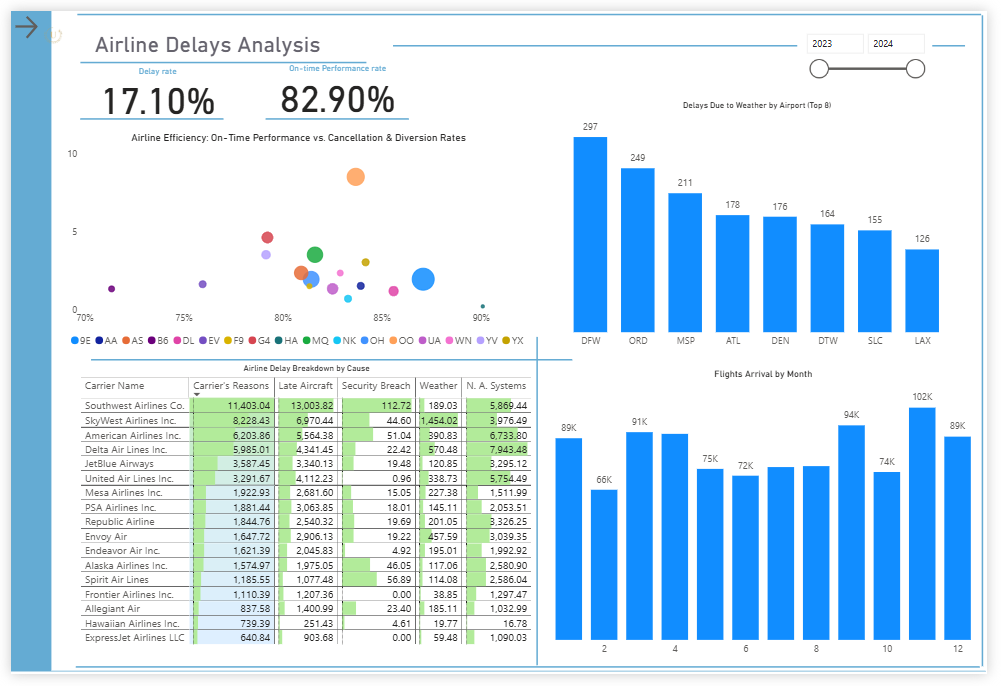

Layout of this report page (visuals, bound fields, positions):
{"tool":"powerbi","page":{"name":"1","canvas":[1280,869],"ordinal":0},"visuals":[{"type":"clusteredColumnChart","title":" Flights Arrival by Month","fields":{"Category":["Airline_Delays.Month"],"Y":["Sum(Airline_Delays.Total Flights Arrival)"]},"box":[708.3,468.1,556.9,386.1],"z":0},{"type":"pivotTable","title":"Airline Delay Breakdown by Cause","fields":{"Rows":["Airline_Delays.Carrier Name"],"Values":["Sum(Airline_Delays.Total Delays Due to Carrier's Reasons)","Sum(Airline_Delays.Total Delays Due to Late Aircraft)","Sum(Airline_Delays.Total Delays Due to security Breach)","Sum(Airline_Delays.Total Delays Due to Weather)","Sum(Airline_Delays.Total Delays Due to National Aviation Systems)"]},"box":[86.1,462.5,601.4,386.1],"z":1000},{"type":"clusteredColumnChart","title":" Delays Due to Weather by Airport (Top 8)","fields":{"Category":["Airline_Delays.Airport (3 letter Code)"],"Y":["Sum(Airline_Delays.Total Delays Due to Weather)"]},"box":[707.8,115.6,540.3,335.1],"z":2000},{"type":"scatterChart","title":"Airline Efficiency: On-Time Performance vs. Cancellation & Diversion Rates","fields":{"X":["Airline_Delays._Ontime Performance"],"Y":["Sum(Airline_Delays._cancellation rate)"],"Series":["Airline_Delays.Carrier ID"],"Size":["Sum(Airline_Delays._diversion rate)"]},"box":[68.1,158.3,616.7,291.7],"z":3000},{"type":"slicer","fields":{"Values":["Airline_Delays.Year"]},"box":[1031.5,20.4,175.9,77.8],"z":4000},{"type":"textbox","box":[105.6,20.8,366.7,75],"z":5000},{"type":"card","title":"Delay rate","fields":{"Values":["Airline_Delays._delay rate"]},"box":[86.1,72.2,211.1,69.4],"z":6000},{"type":"card","title":"On-time Performance rate","fields":{"Values":["Airline_Delays._Ontime Performance"]},"box":[323.6,69.4,211.1,69.4],"z":7000},{"type":"image","box":[11.1,0,87,72.2],"z":8000},{"type":"actionButton","box":[0,1.8,55.4,39.3],"z":8001}]}

Visuals, with their boxes in screenshot pixels (x1, y1, x2, y2), scaled from the page's 1280x869 canvas onto the 1001x686 screenshot:
" Flights Arrival by Month" clusteredColumnChart: x1=554 y1=370 x2=989 y2=674
"Airline Delay Breakdown by Cause" pivotTable: x1=67 y1=365 x2=538 y2=670
" Delays Due to Weather by Airport (Top 8)" clusteredColumnChart: x1=554 y1=91 x2=976 y2=356
"Airline Efficiency: On-Time Performance vs. Cancellation & Diversion Rates" scatterChart: x1=53 y1=125 x2=536 y2=355
slicer - Airline_Delays.Year: x1=807 y1=16 x2=944 y2=78
textbox: x1=83 y1=16 x2=369 y2=76
"Delay rate" card: x1=67 y1=57 x2=232 y2=112
"On-time Performance rate" card: x1=253 y1=55 x2=418 y2=110
image: x1=9 y1=0 x2=77 y2=57
actionButton: x1=0 y1=1 x2=43 y2=32
